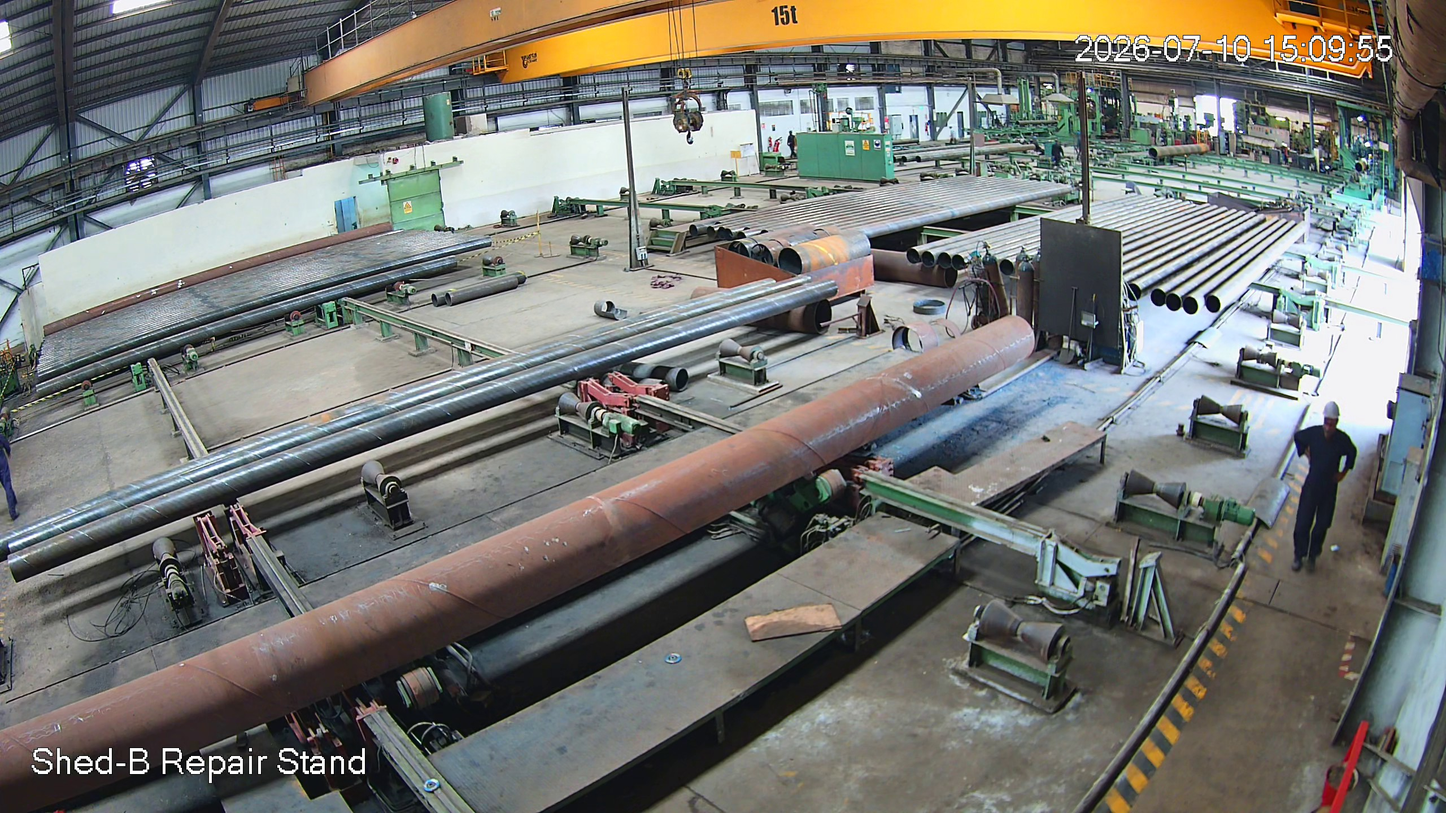Helmet: (1314, 393, 1362, 458)
Person: (1289, 400, 1361, 581)
